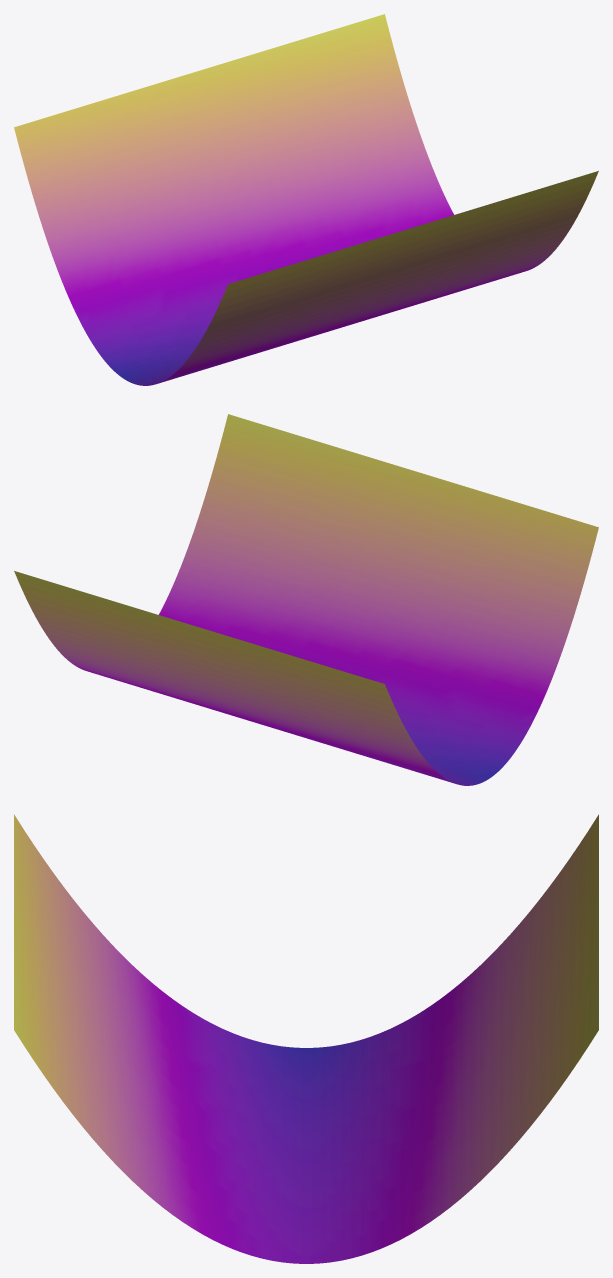
Rendered from graph_a6b8989f.glb.
3 renders of one model, top to bottom at view 1: azimuth 30°, elevation 25°; view 2: azimuth 150°, elevation 25°; view 3: azimuth 270°, elevation 25°, orthographic. The views are drawn at different scales.
Parts seen in each view (by area): view 1: geometry_0; view 2: geometry_0; view 3: geometry_0.
Part boxes in pixels (x1=…): geometry_0: x1=14, y1=14, x2=598, y2=385; geometry_0: x1=14, y1=414, x2=598, y2=785; geometry_0: x1=14, y1=814, x2=598, y2=1263.
Size of the model in its own units: 1 by 0.5 by 1.
